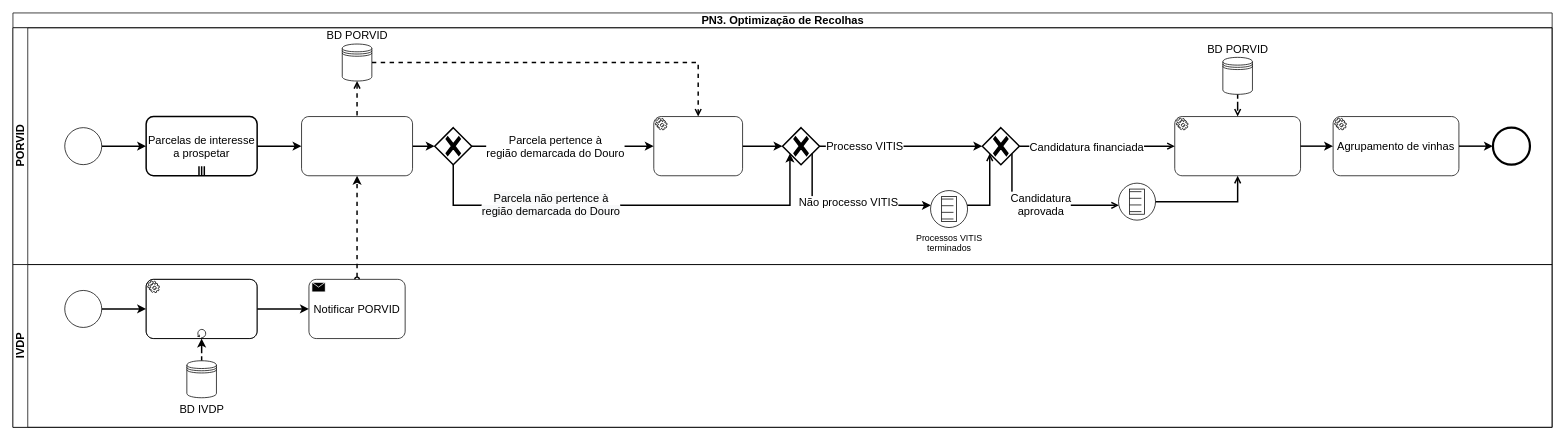
Some shapes in this 1565 by 440 pixel diagram are drawn without their labels. The shapes that lost their labels are listed below. From the top down, each one's box as (x1, y1, x2, y2) in pixels, then its label:
(301, 116, 413, 176): Atualização BD PORVID
(653, 116, 743, 176): Associar informação IVDP
(1174, 116, 1301, 176): Identificação de vinhas velhas geograficamente próximas
(1118, 182, 1156, 220): Candidaturas financiadas terminadas
(145, 279, 257, 339): Preparação de informação sobre parcelas verificadas
